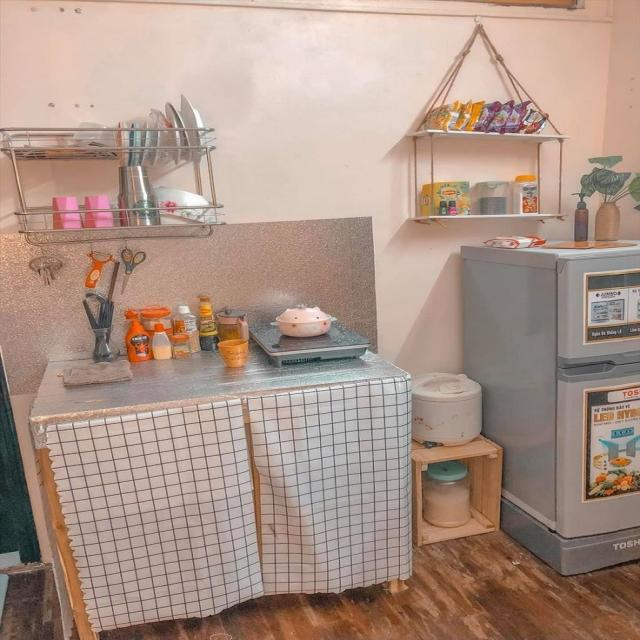obstacle: (28, 332, 414, 638), (458, 240, 639, 576), (0, 124, 225, 245), (404, 130, 570, 226), (409, 433, 504, 546)
